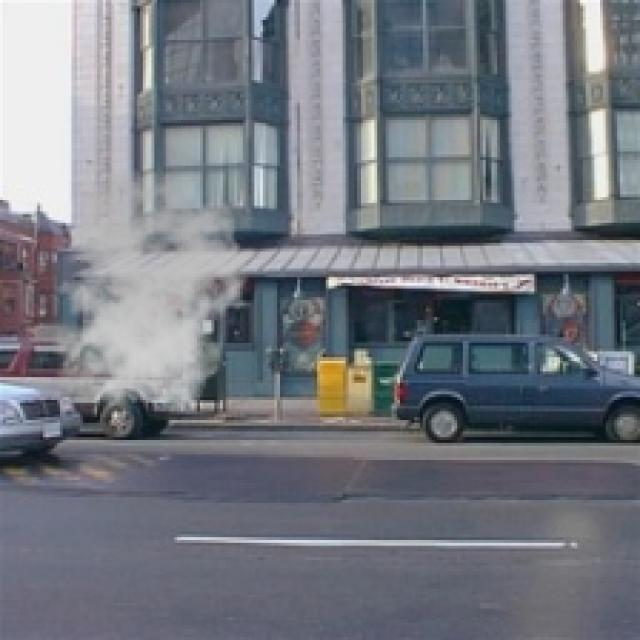smoke: (40, 168, 254, 423)
